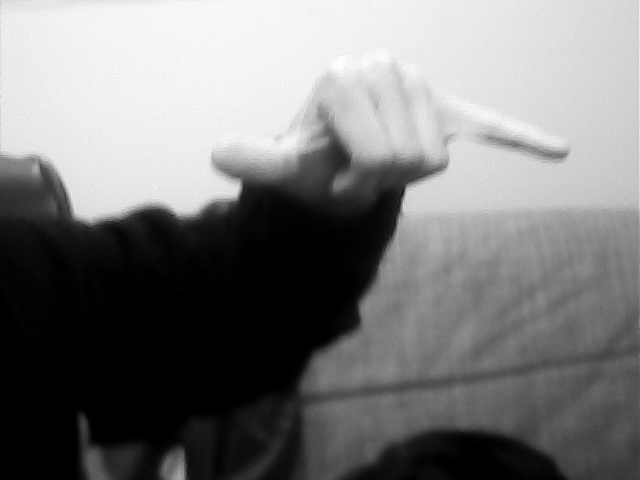aloha: (208, 46, 579, 227)
